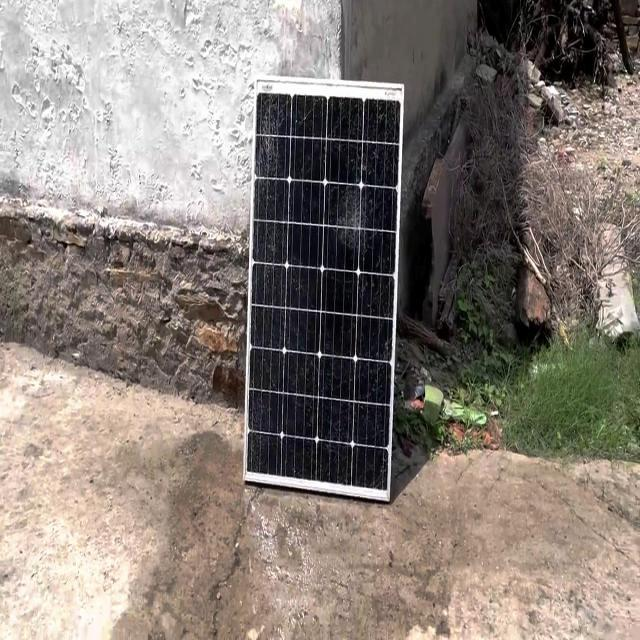faulty: (240, 81, 400, 496)
